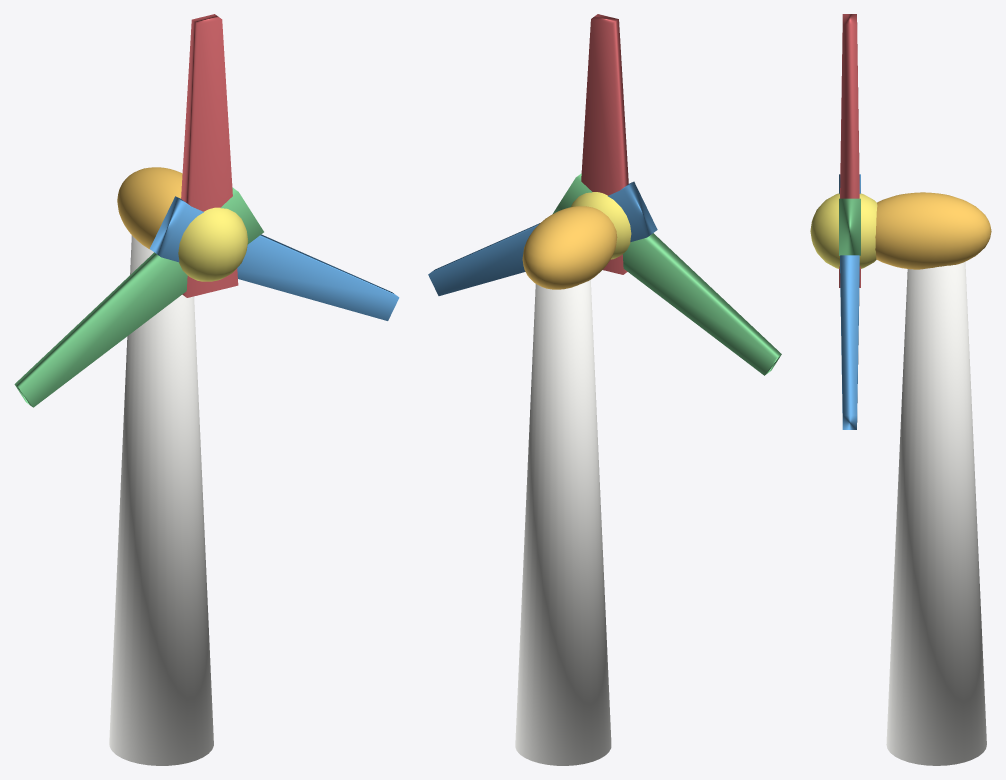
Rendered from molino_eolico.glb.
3 renders of one model, left to right at view 1: azimuth 30°, elevation 25°; view 2: azimuth 150°, elevation 25°; view 3: azimuth 270°, elevation 25°, orthographic. The views are drawn at different scales.
Visible parts, largest first — view 1: Torre, Aspa3, Aspa1, Aspa2, Buje, Gondola; view 2: Torre, Aspa3, Aspa1, Gondola, Aspa2, Buje; view 3: Torre, Gondola, Aspa1, Aspa2, Buje, Aspa3.
Boxes of the visible parts, x1,y1,x2,y2 form: Torre: [109, 235, 213, 765]; Aspa3: [14, 187, 263, 407]; Aspa1: [181, 14, 238, 297]; Aspa2: [150, 196, 399, 320]; Buje: [178, 207, 248, 281]; Gondola: [117, 167, 182, 249]; Torre: [515, 280, 611, 765]; Aspa3: [552, 173, 781, 375]; Aspa1: [581, 14, 628, 274]; Gondola: [522, 206, 617, 289]; Aspa2: [428, 181, 657, 295]; Buje: [571, 192, 631, 259]; Torre: [886, 261, 986, 765]; Gondola: [875, 192, 991, 269]; Aspa1: [839, 14, 860, 287]; Aspa2: [839, 174, 860, 429]; Buje: [810, 193, 877, 268]; Aspa3: [839, 198, 860, 255].
Size of the model in its own units: 4.57 by 8.76 by 1.98.
